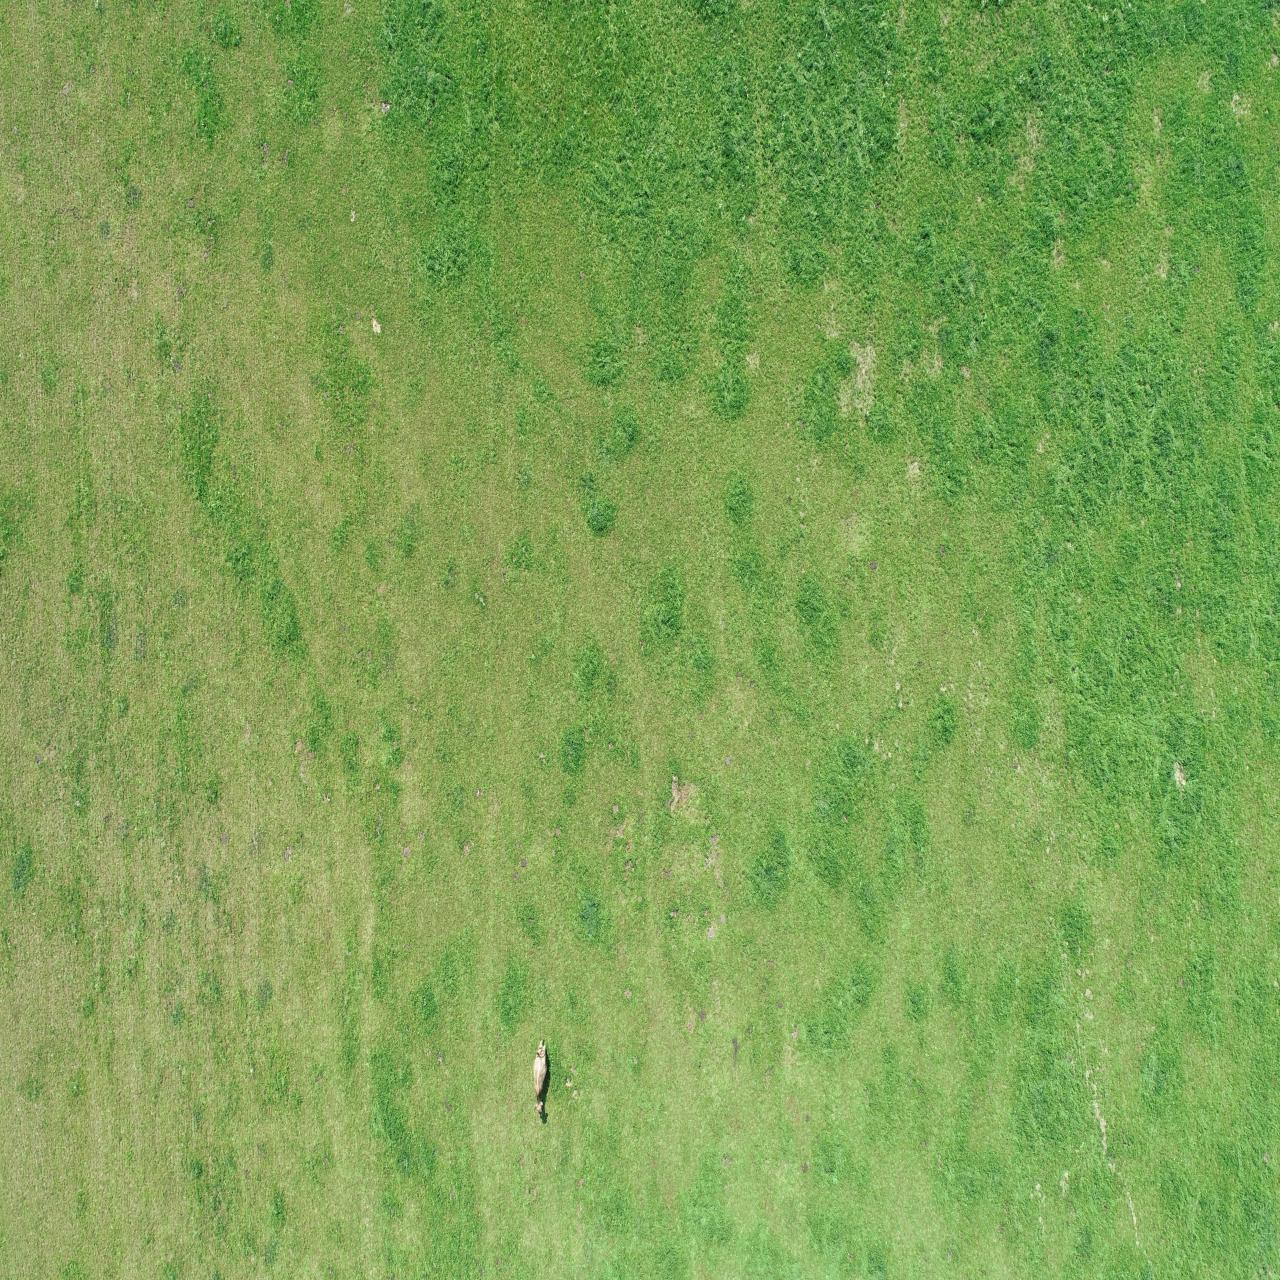cow: (530, 1035, 551, 1117)
